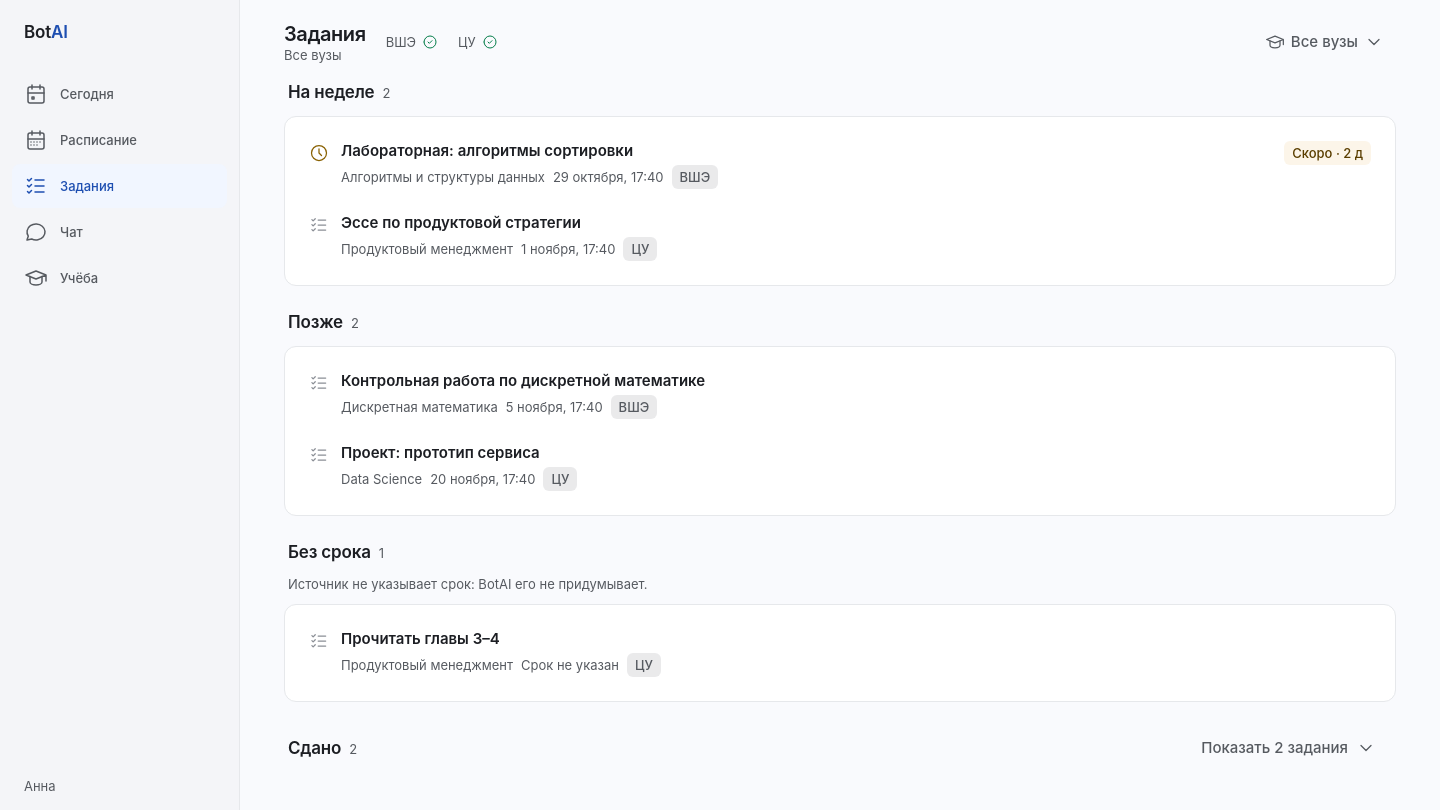
Scenario: «Задания»: группы и срочность › карточка задания без срока говорит «Срок не указан», а не придумывает срок
(page scrolled)
Click the button "Прочитать главы 3–4 Продуктовый менеджмент Срок не указан ЦУ" at [420, 638], box [297,617,1383,689]
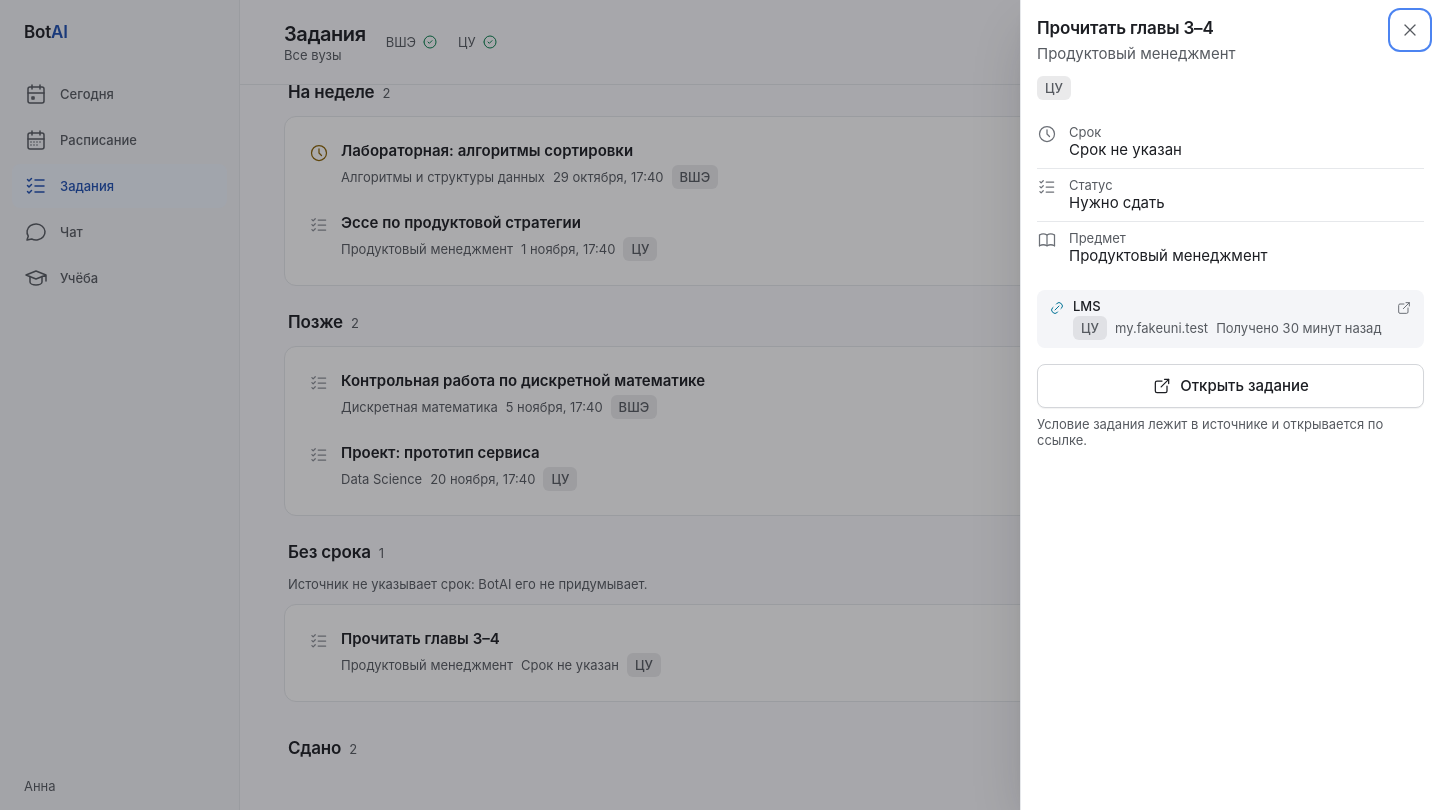
Result: the text "Срок не указан" is shown at [1069,140,1182,159]
